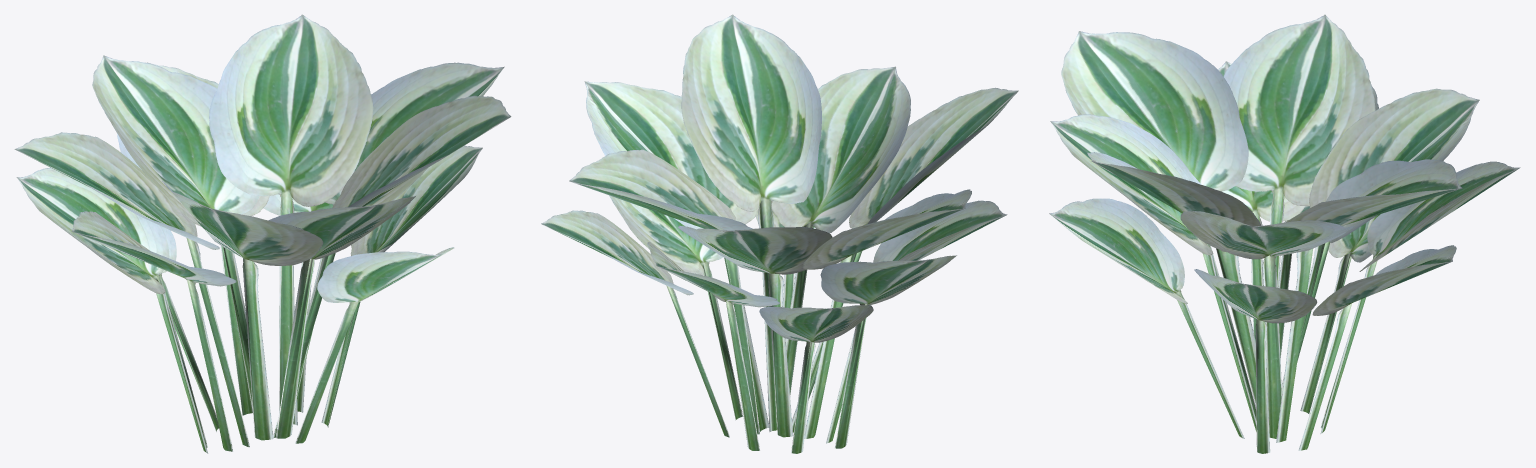
Rendered from plant_small_wg_01M.fbx.
The picture shows the model from 3 angles, left to right: view 1: azimuth 30°, elevation 25°; view 2: azimuth 150°, elevation 25°; view 3: azimuth 270°, elevation 25°; orthographic projection. The views are drawn at different scales.
Visible parts, largest first — view 1: plant_small_wg_01M; view 2: plant_small_wg_01M; view 3: plant_small_wg_01M.
Boxes of the visible parts, x1,y1,x2,y2 form: plant_small_wg_01M: (14, 14, 511, 453); plant_small_wg_01M: (541, 14, 1018, 453); plant_small_wg_01M: (1049, 14, 1520, 453).
Bounding box in the file's own units: 86.7 × 64.14 × 81.6.
